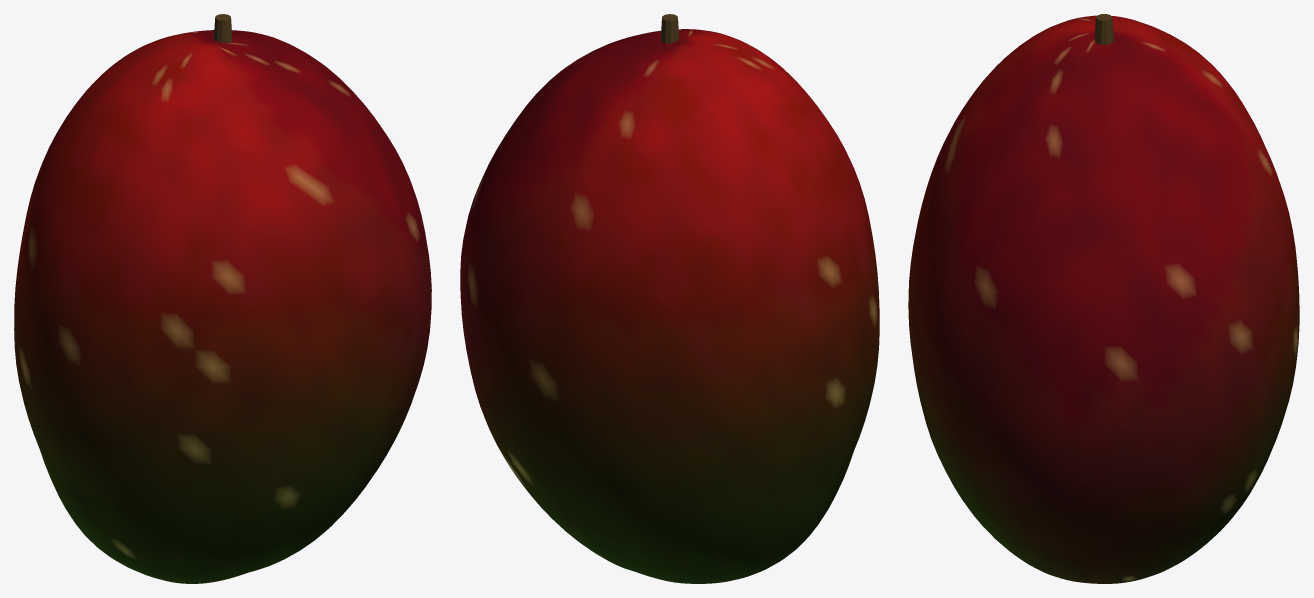
Rendered from mangue-cogshall.glb.
3 views of the same model, side by side, from view 1: azimuth 30°, elevation 25°; view 2: azimuth 150°, elevation 25°; view 3: azimuth 270°, elevation 25° (orthographic). The views are drawn at different scales.
Parts seen in each view (by area): view 1: entier_peau, moitie_B_peau, moitie_A_peau; view 2: entier_peau, moitie_A_peau, moitie_B_peau; view 3: entier_peau, moitie_A_peau, moitie_B_peau, entier_extra0.
Boxes of the visible parts, x1,y1,x2,y2 form: entier_peau: (14, 30, 431, 583); moitie_B_peau: (37, 39, 430, 583); moitie_A_peau: (14, 30, 312, 534); entier_peau: (460, 29, 879, 583); moitie_A_peau: (460, 39, 855, 583); moitie_B_peau: (594, 29, 879, 539); entier_peau: (908, 15, 1299, 583); moitie_A_peau: (1104, 16, 1299, 583); moitie_B_peau: (908, 15, 1104, 583); entier_extra0: (1094, 14, 1113, 44).
Size of the model in its own units: 1.48 by 2.08 by 1.32.
